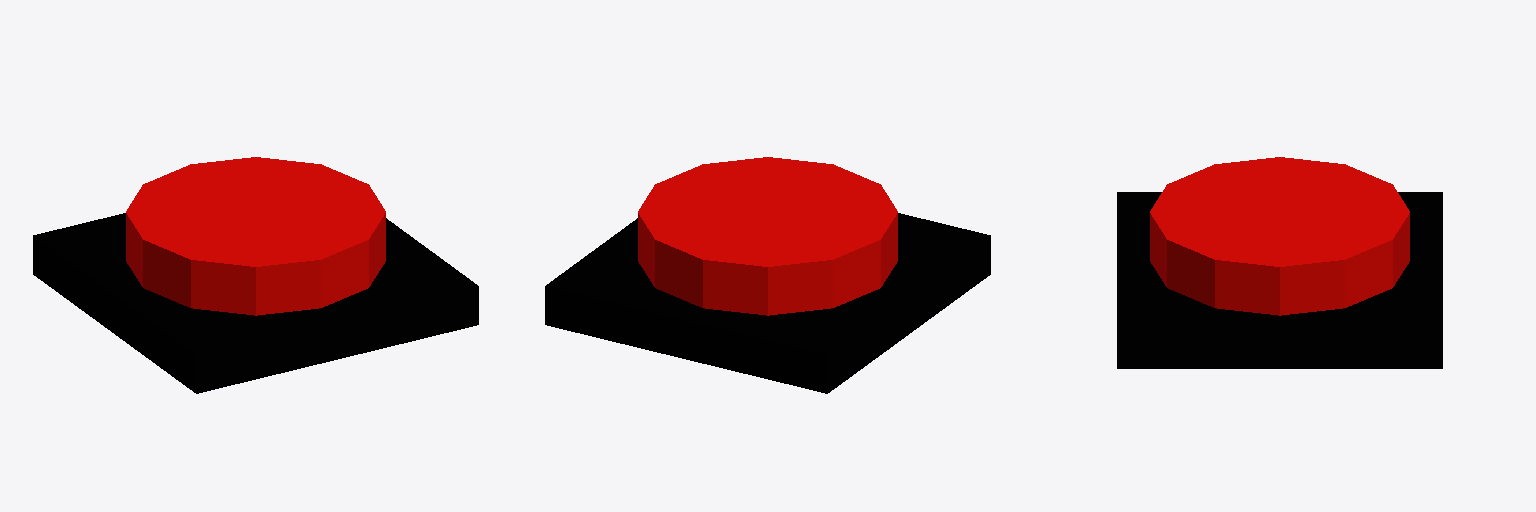
The picture shows the model from 3 angles: view 1: azimuth 30°, elevation 25°; view 2: azimuth 150°, elevation 25°; view 3: azimuth 270°, elevation 25°; orthographic projection.
Parts seen in each view (by area): view 1: group[number redacted], group[number redacted]; view 2: group[number redacted], group[number redacted]; view 3: group[number redacted], group[number redacted].
Boxes of the visible parts, <box> form: group[number redacted]: <box>126,157,385,315</box>; group[number redacted]: <box>33,213,478,393</box>; group[number redacted]: <box>638,157,897,315</box>; group[number redacted]: <box>545,213,990,393</box>; group[number redacted]: <box>1150,157,1409,315</box>; group[number redacted]: <box>1117,192,1442,368</box>.
Size of the model in its own units: 0.15 by 0.0447 by 0.15.